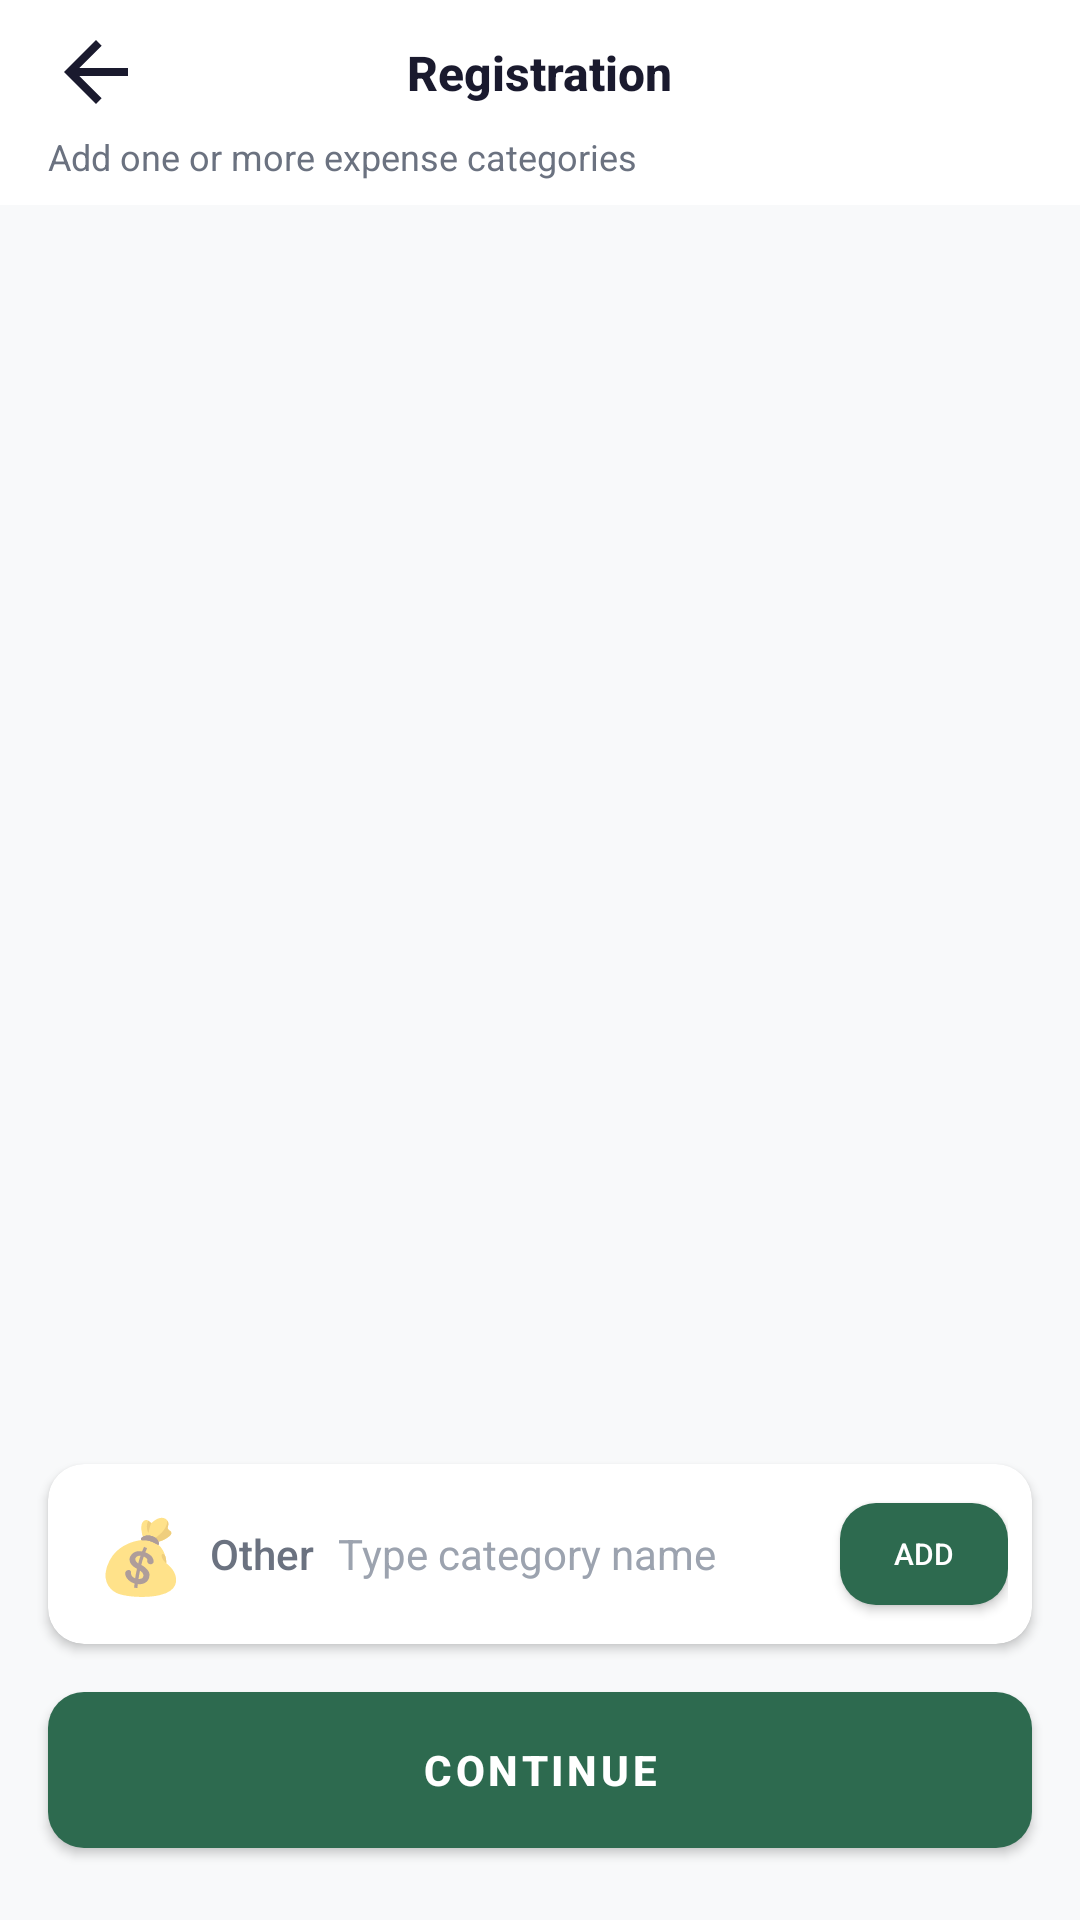

Where icons sit on this 1080px x 1920px app screen, as (x1, y1, x2, y2):
Back: (64, 40, 128, 104)
